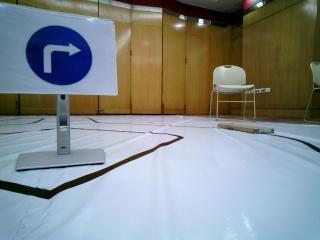right: (4, 7, 115, 93)
